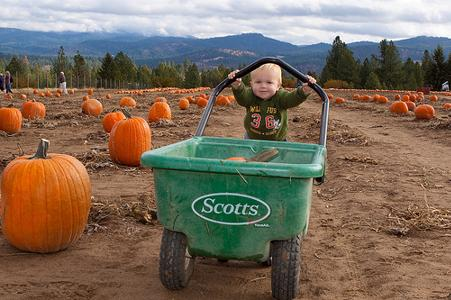person: (227, 59, 317, 144)
